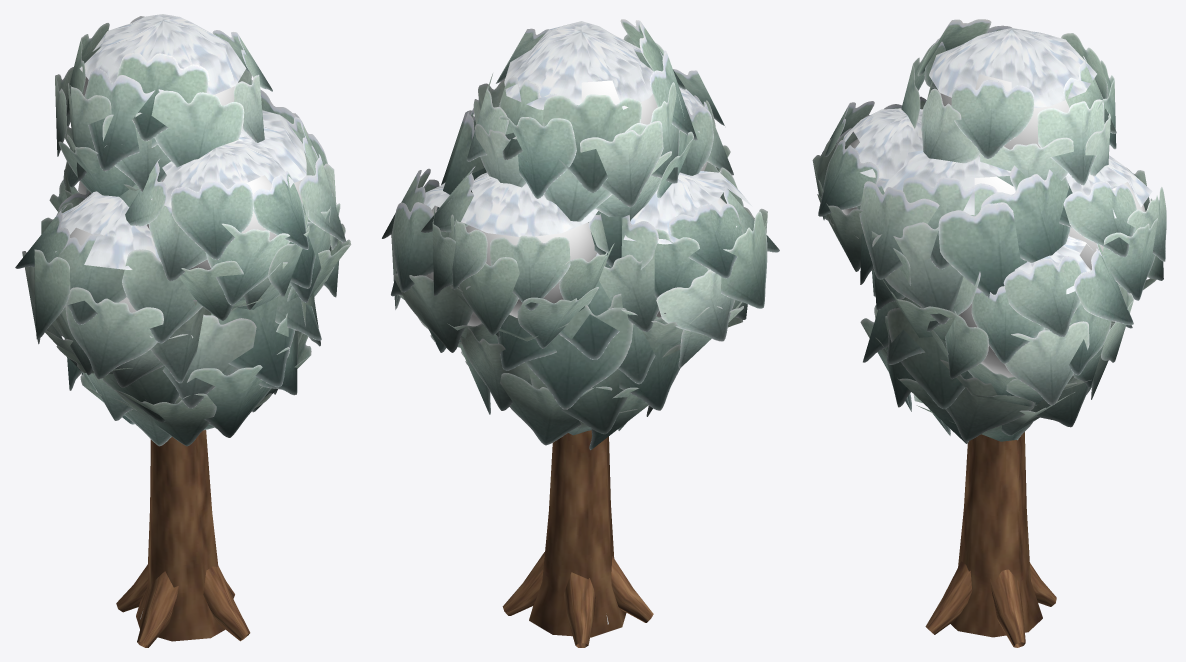
Rendered from tree-tall-winter.glb.
3 renders of one model, left to right at view 1: azimuth 30°, elevation 25°; view 2: azimuth 150°, elevation 25°; view 3: azimuth 270°, elevation 25°, orthographic. The views are drawn at different scales.
Visible parts, largest first — view 1: Crown, Trunk, Hull; view 2: Crown, Trunk, Hull; view 3: Crown, Trunk, Hull.
Boxes of the visible parts, x1,y1,x2,y2 form: Crown: (15, 14, 351, 446); Trunk: (116, 430, 250, 647); Hull: (70, 77, 302, 395); Crown: (382, 19, 779, 450); Trunk: (502, 430, 653, 647); Hull: (426, 80, 726, 326); Crown: (812, 19, 1166, 443); Trunk: (925, 432, 1056, 647); Hull: (841, 74, 1145, 377).
Size of the model in its own units: 2.03 by 3.49 by 1.96.
Materials: 3 (2 with a texture image).
